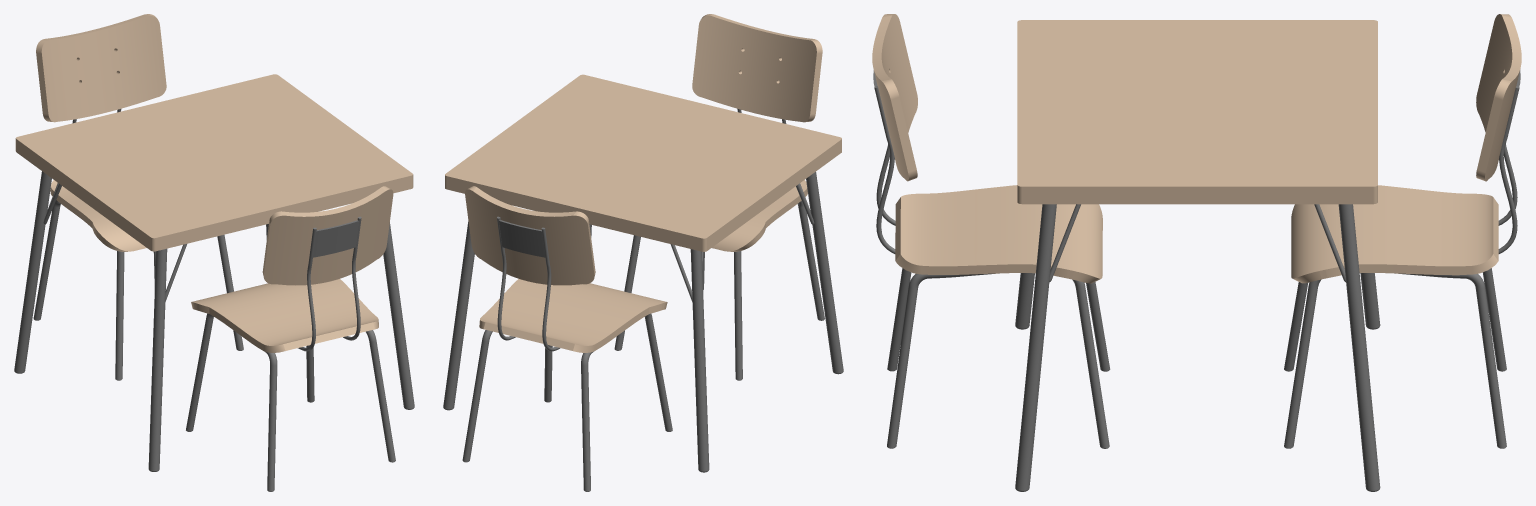
The model's file is 566_ダイニングテーブルセット2人掛け.glb.
3 views of the same model, side by side, from view 1: azimuth 30°, elevation 25°; view 2: azimuth 150°, elevation 25°; view 3: azimuth 270°, elevation 25° (orthographic). The views are drawn at different scales.
Parts seen in each view (by area): view 1: Body, chair2, chair1; view 2: Body, chair1, chair2; view 3: Body, chair2, chair1.
Part boxes in pixels (bbox=[...]): Body: bbox=[14, 74, 414, 471]; chair2: bbox=[186, 186, 395, 491]; chair1: bbox=[33, 14, 243, 380]; Body: bbox=[443, 74, 843, 472]; chair1: bbox=[462, 186, 672, 491]; chair2: bbox=[614, 14, 824, 380]; Body: bbox=[1015, 20, 1380, 491]; chair2: bbox=[872, 14, 1110, 448]; chair1: bbox=[1284, 14, 1521, 448].
Size of the model in its own units: 0.829 by 0.8281 by 1.35.
